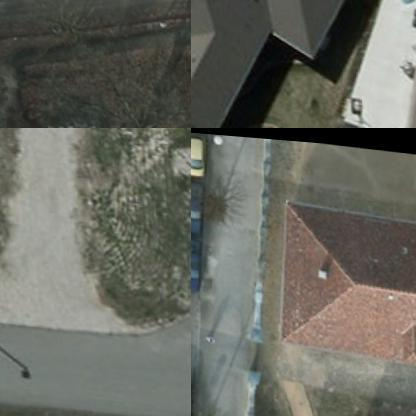car: (191, 179, 211, 240), (191, 133, 208, 179), (191, 237, 203, 298)
